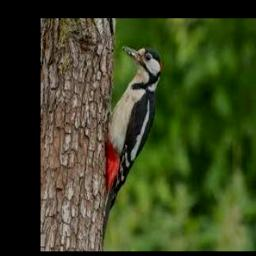Woodpecker: (102, 46, 162, 245)
